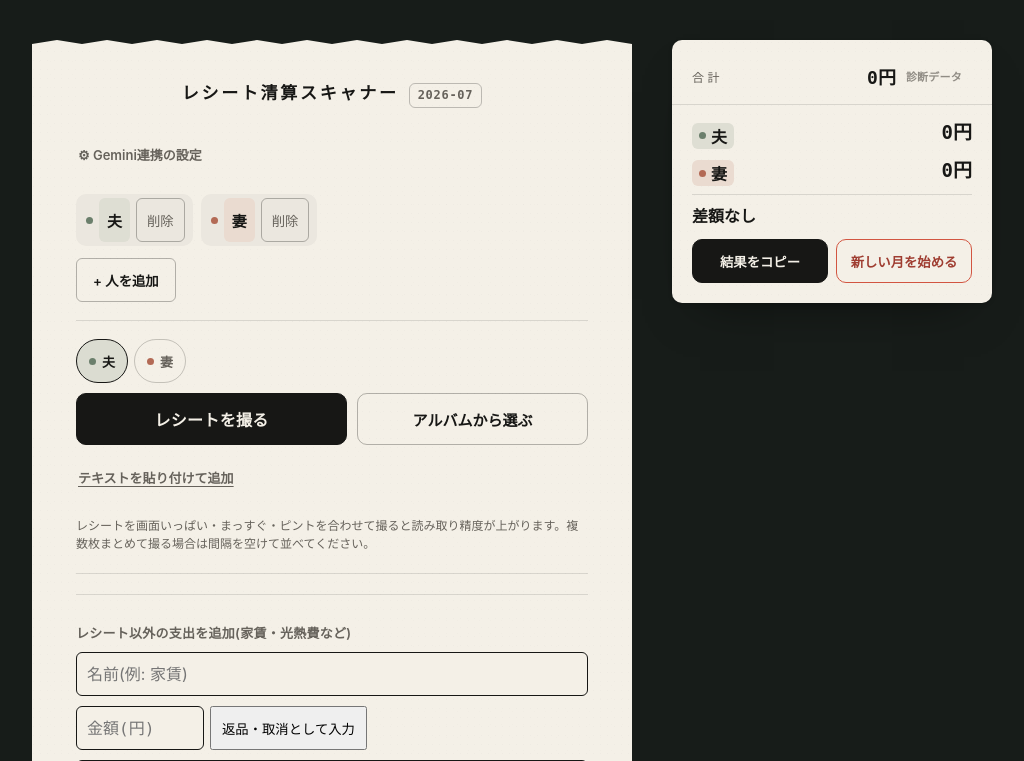
App › 取り込み導線は支払者セグメントで選択中の1人分だけを表示し、hidden inputは人数分だけ生成される(設計ドキュメント§17.7)
Expected: the button with aria-label "夫のレシートをアルバムから選ぶ" is shown, [357, 393, 588, 445]
Expected: the button with aria-label "夫のレシートを撮る（カメラ）" is shown, [76, 393, 347, 445]
Click the 2nd button "妻".
click(160, 361)  # box [134, 339, 186, 383]
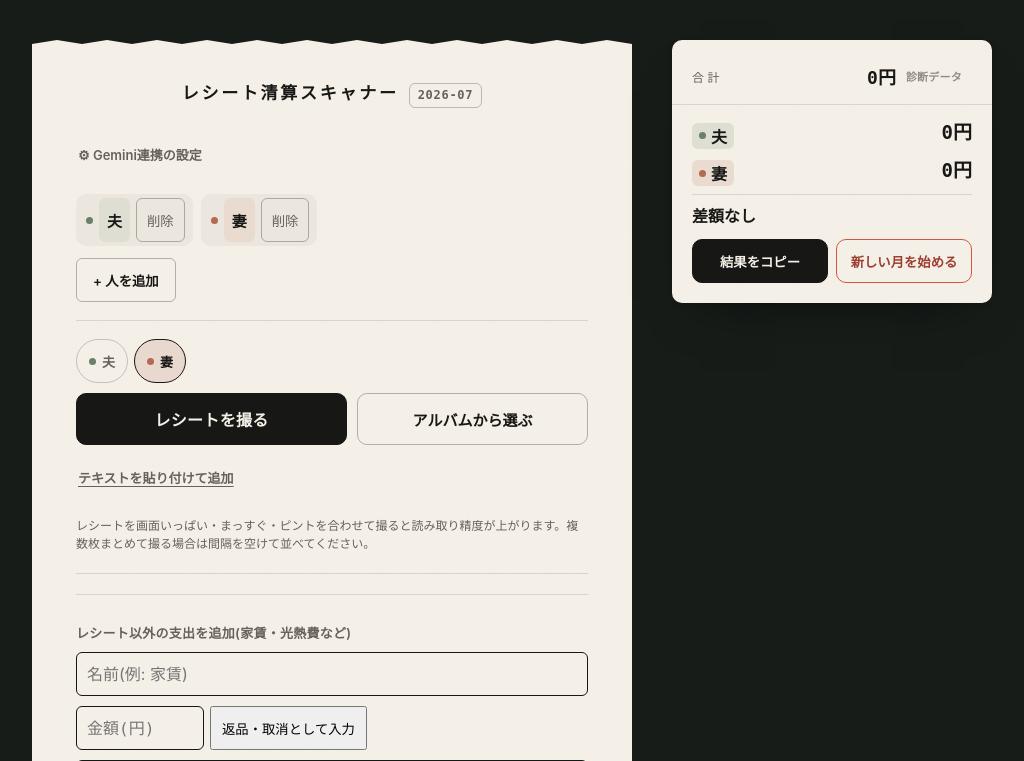
Expected: the button with aria-label "妻のレシートをアルバムから選ぶ" is shown, [357, 393, 588, 445]
Expected: the 2nd button "妻" is pressed, [134, 339, 186, 383]
Click the button "+ 人を追加".
click(126, 280)  # box [76, 258, 176, 302]
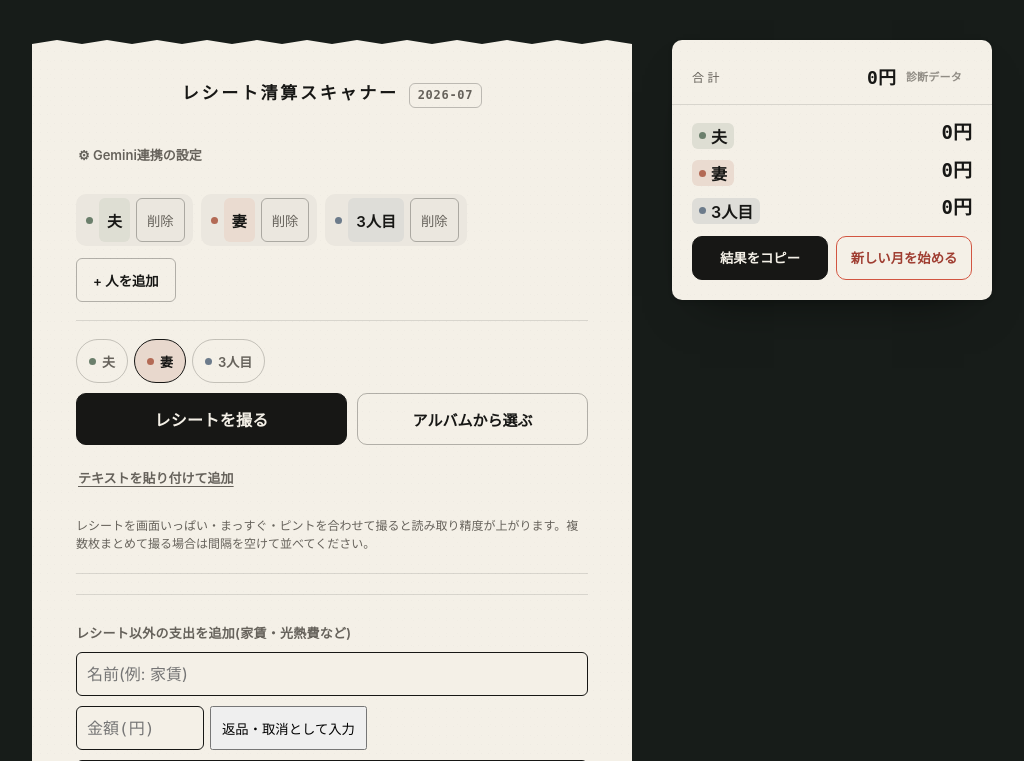
Expected: the 2nd button "3人目" is shown, [192, 339, 265, 383]
